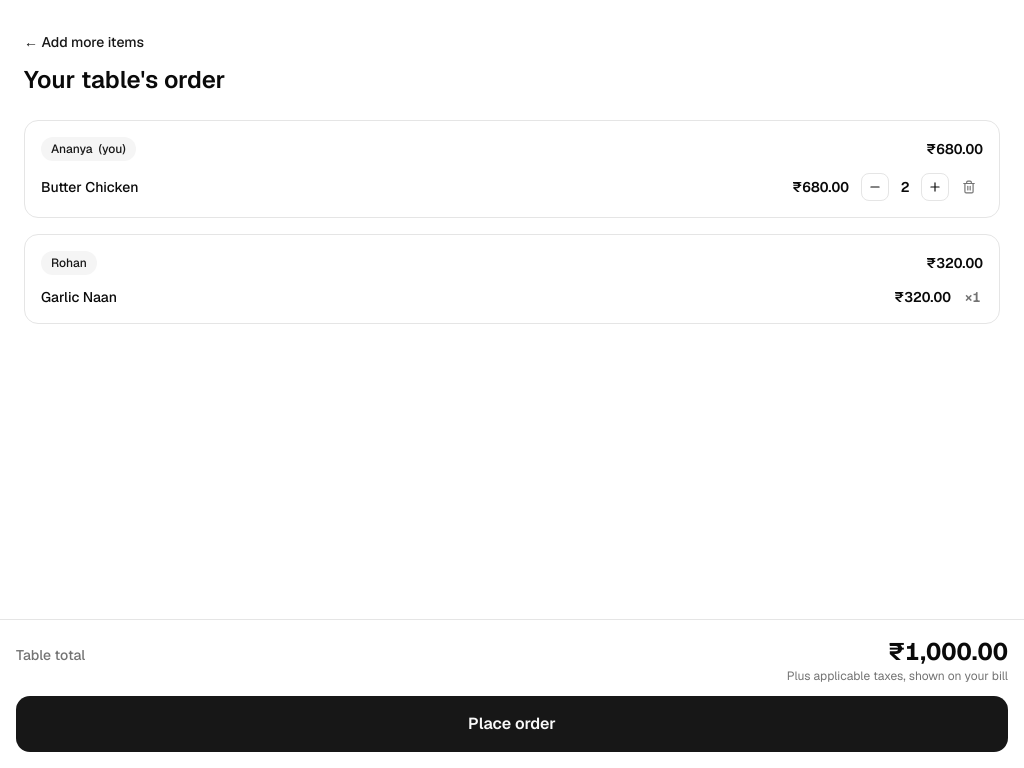
Test: CartScreen - Place order (CAP-4) › posts the real placement endpoint and renders the confirmation from the real PlacedOrderView shape
This screenshot has width=1024, height=768.
Check: the list item with test id "cart-line-l1" is shown, box [41,173,983,201]
Click the button with test id "cart-place-order" at (512, 724), box [16,696,1008,752]
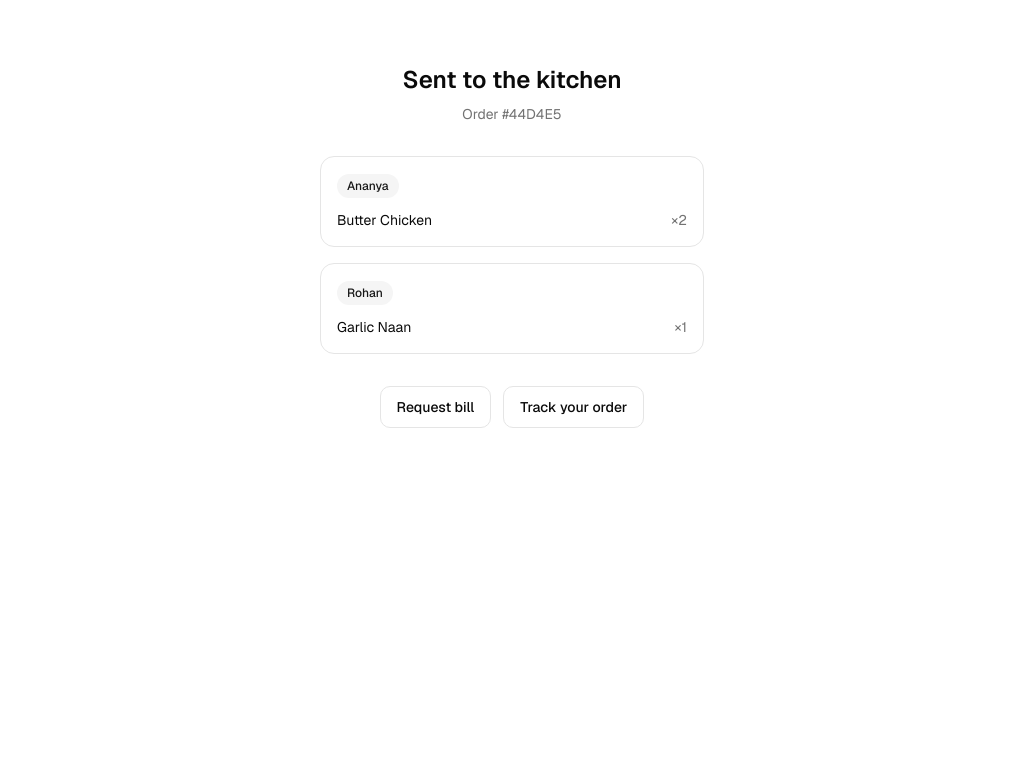
Check: the element with test id "cart-placed" is shown, box [320,64,704,428]
Check: the text with test id "cart-placed-order-id" reads "Order #44D4E5", box [462,104,562,124]
Check: the element with test id "cart-placed-guest-g1" shows "Ananya", box [347,178,389,194]
